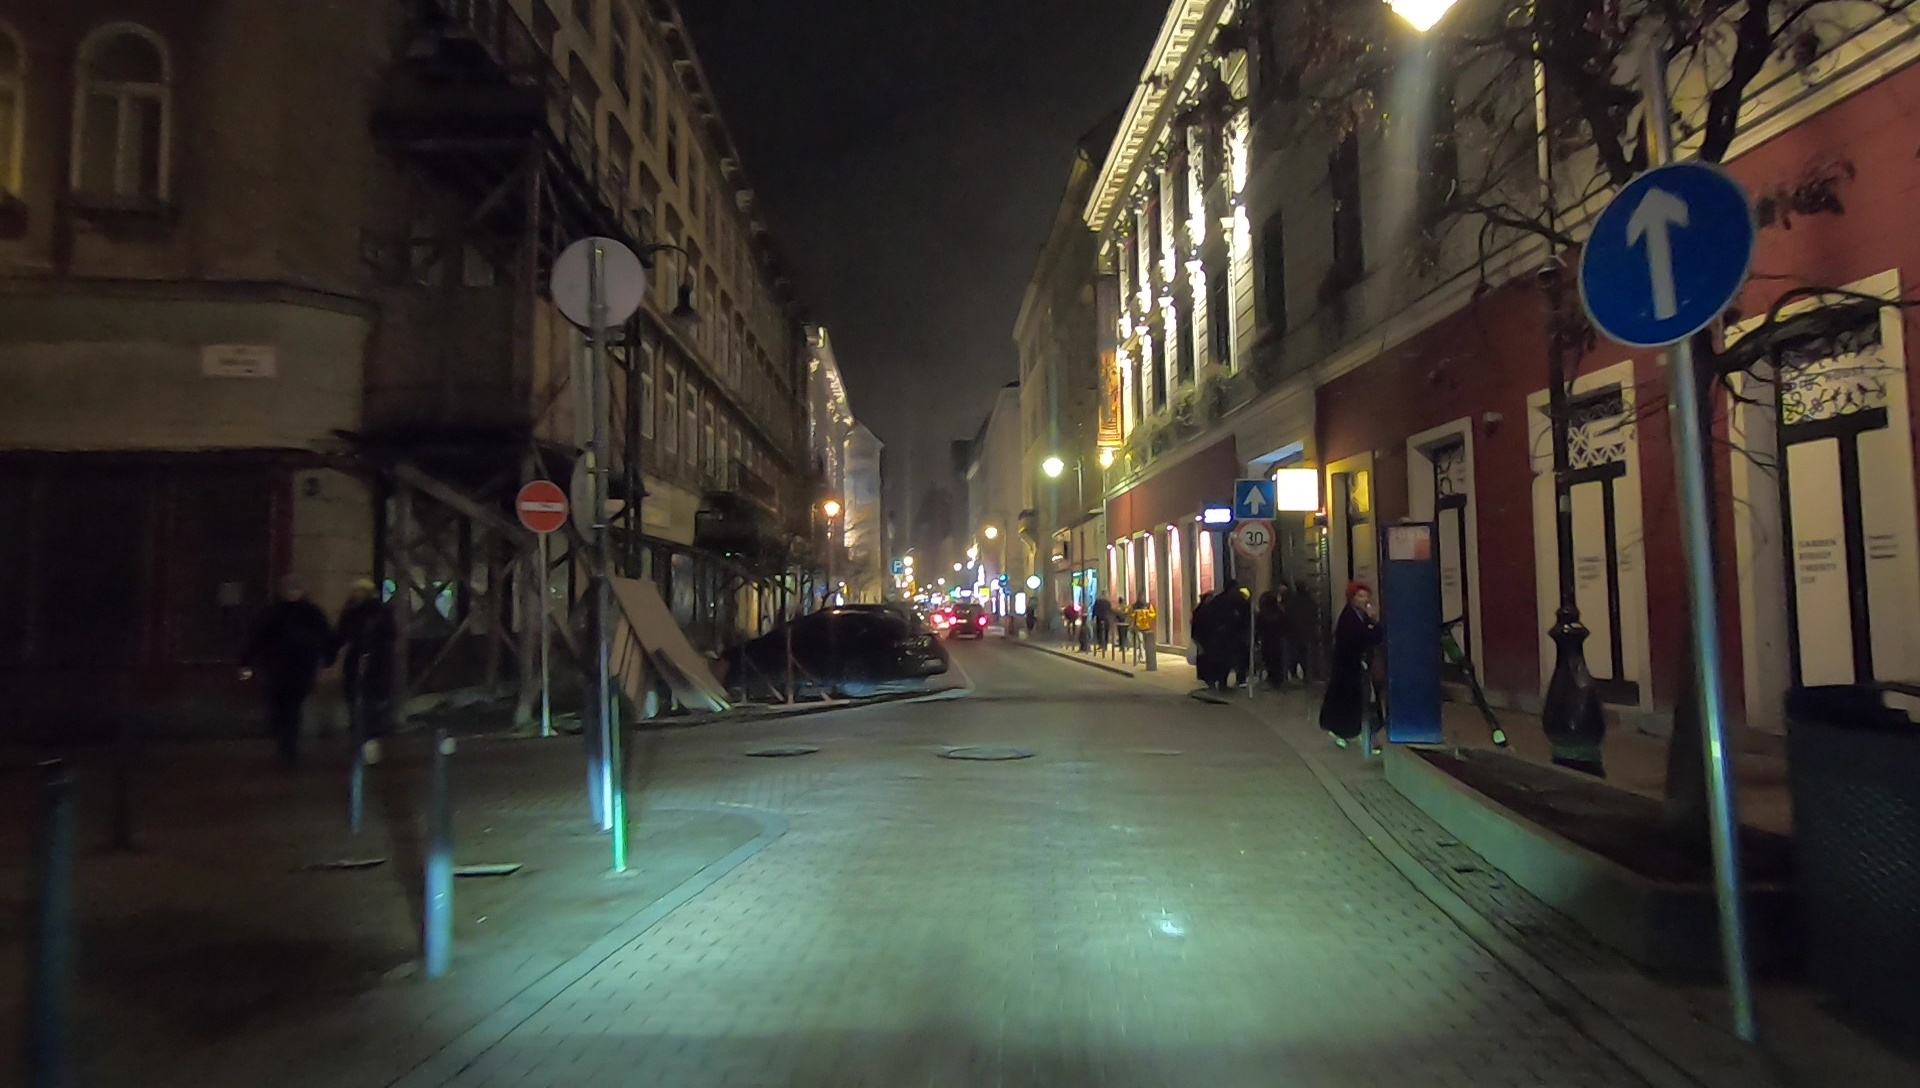person: (251, 574, 332, 752), (1330, 580, 1389, 758), (341, 584, 389, 719), (1224, 578, 1254, 682), (1195, 587, 1223, 689), (1293, 578, 1319, 678), (1089, 588, 1114, 654), (1131, 595, 1151, 653), (1113, 593, 1129, 656)
